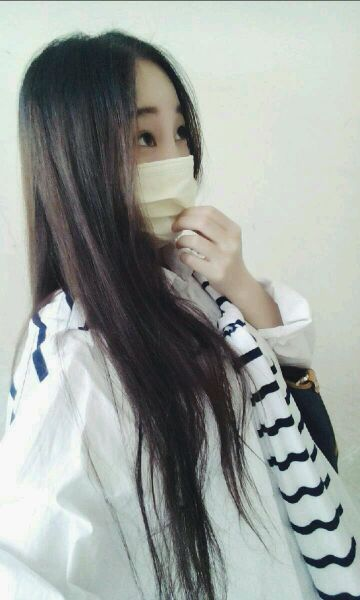face_mask: (113, 57, 192, 232)
